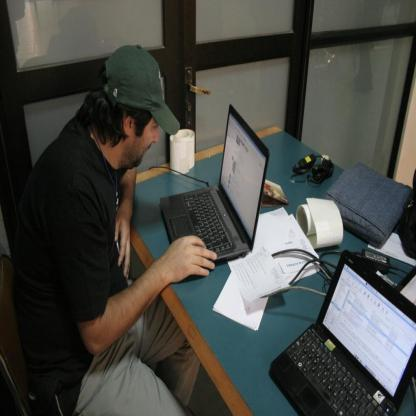board: (270, 250, 416, 416), (161, 101, 271, 278)
